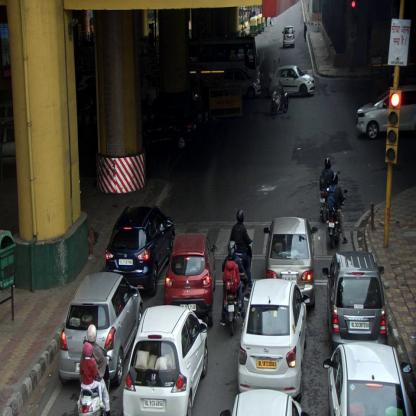bus: (189, 38, 261, 98)
car: (58, 270, 144, 390), (123, 305, 209, 415), (238, 279, 311, 398), (105, 204, 175, 299), (324, 342, 412, 416), (322, 251, 388, 342), (165, 233, 217, 329), (263, 216, 315, 306), (356, 84, 416, 140), (269, 66, 316, 97), (221, 69, 261, 98), (283, 26, 295, 48)
motorcycle: (78, 325, 110, 415), (221, 240, 245, 339), (229, 209, 256, 296), (326, 172, 347, 250), (318, 159, 336, 221), (270, 79, 290, 119)
